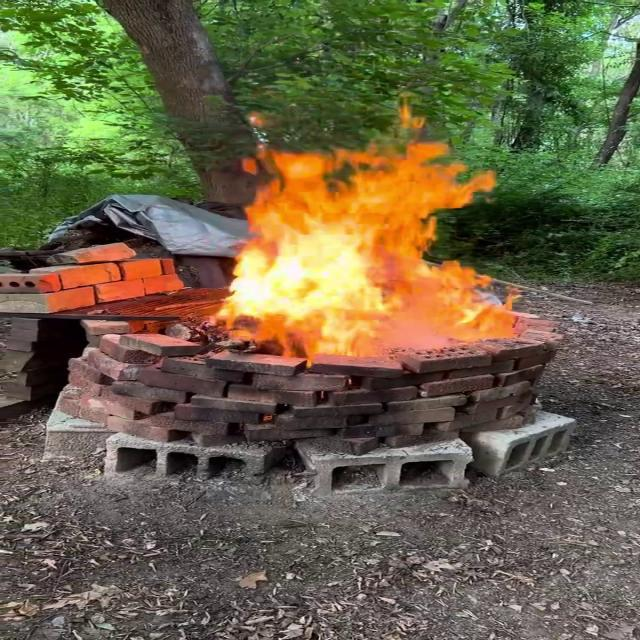Fire: (206, 118, 532, 360)
